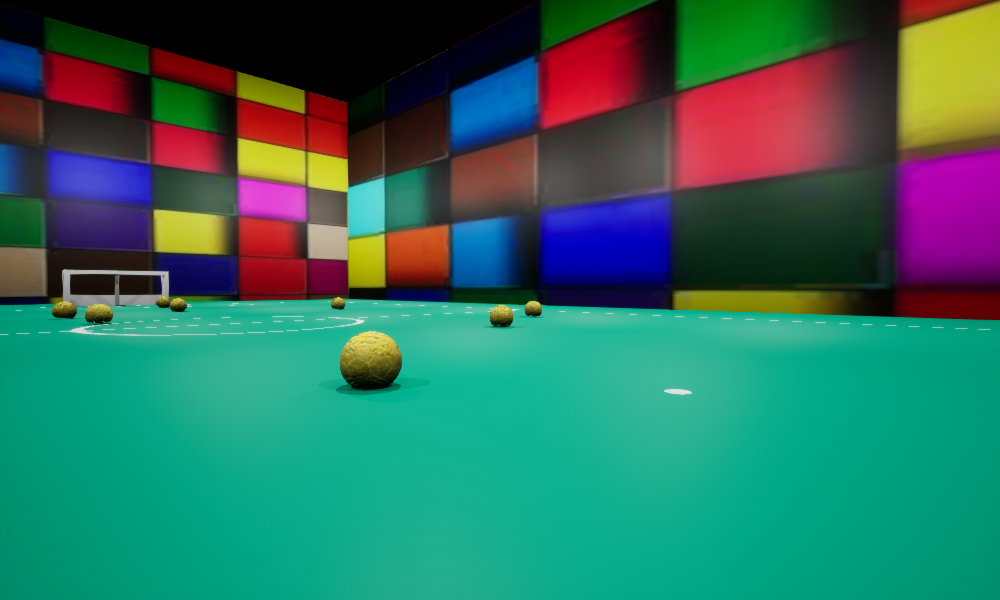b: (340, 331, 401, 388), (85, 304, 112, 323), (490, 305, 512, 326), (52, 301, 76, 318), (524, 301, 541, 315), (170, 298, 186, 311), (156, 296, 170, 307), (331, 297, 344, 308)
g: (62, 269, 168, 305)
